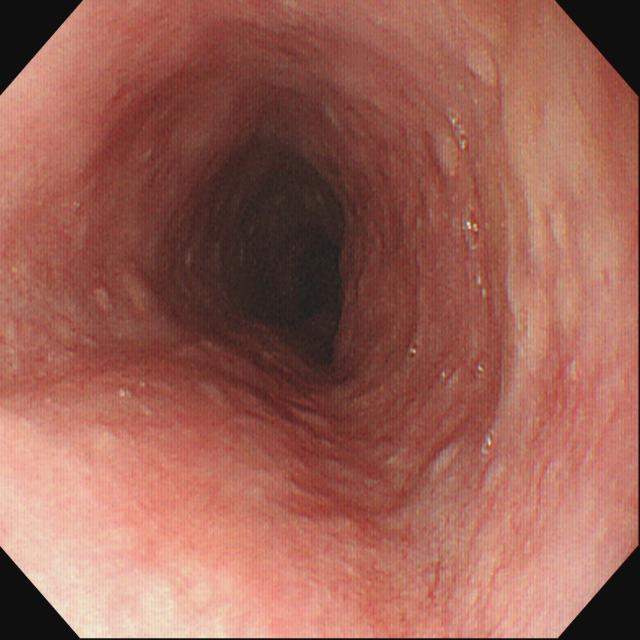E: (184, 142, 348, 372)
T: (461, 184, 486, 255)
